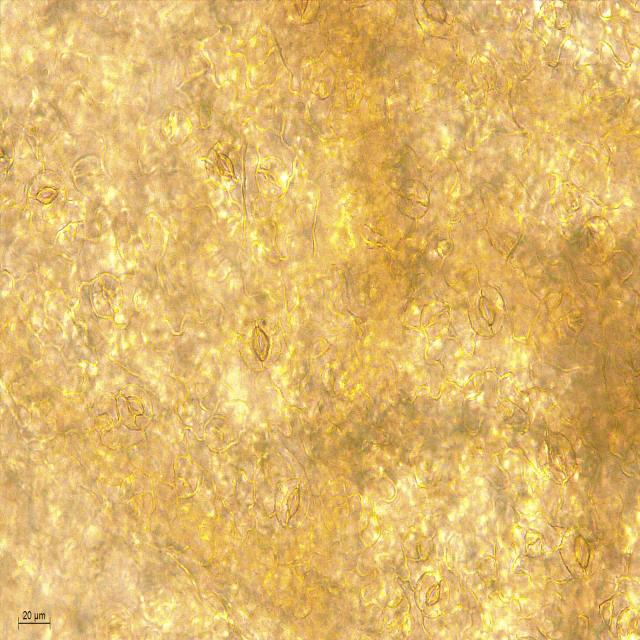Stomata: (557, 524, 602, 582), (238, 316, 283, 374), (466, 284, 508, 341), (576, 214, 618, 268), (274, 474, 312, 532), (26, 168, 68, 220), (536, 432, 578, 484), (204, 140, 244, 190), (115, 382, 154, 432), (413, 569, 451, 619), (253, 154, 292, 201), (411, 0, 458, 39), (88, 270, 124, 320), (394, 177, 430, 220), (419, 297, 454, 339), (71, 153, 106, 195), (469, 52, 500, 92), (203, 414, 234, 453), (280, 0, 322, 28), (318, 359, 348, 397)
